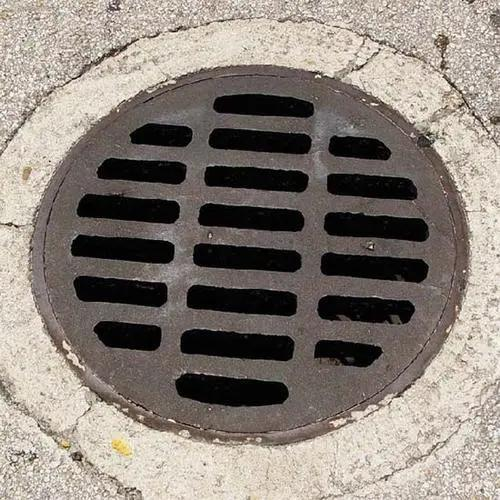wellcover: (39, 68, 467, 433)
